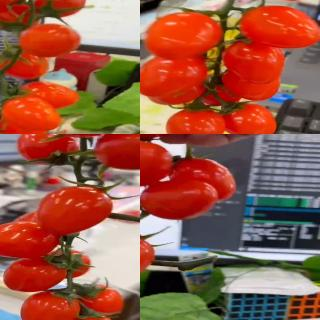tomato: (145, 12, 225, 61), (38, 186, 114, 236), (241, 3, 320, 48), (140, 54, 208, 100), (140, 179, 218, 219), (172, 157, 237, 203), (224, 39, 287, 83), (0, 219, 60, 262), (0, 94, 68, 131), (15, 24, 85, 59), (3, 257, 68, 293), (220, 66, 282, 102), (15, 134, 81, 167), (13, 80, 84, 110), (140, 78, 207, 109), (220, 101, 277, 134), (20, 290, 80, 320), (0, 46, 51, 81), (165, 105, 226, 134), (95, 134, 140, 170), (80, 285, 126, 319), (140, 141, 173, 188), (0, 1, 45, 34), (55, 247, 94, 278), (29, 0, 87, 20), (0, 112, 51, 134)
